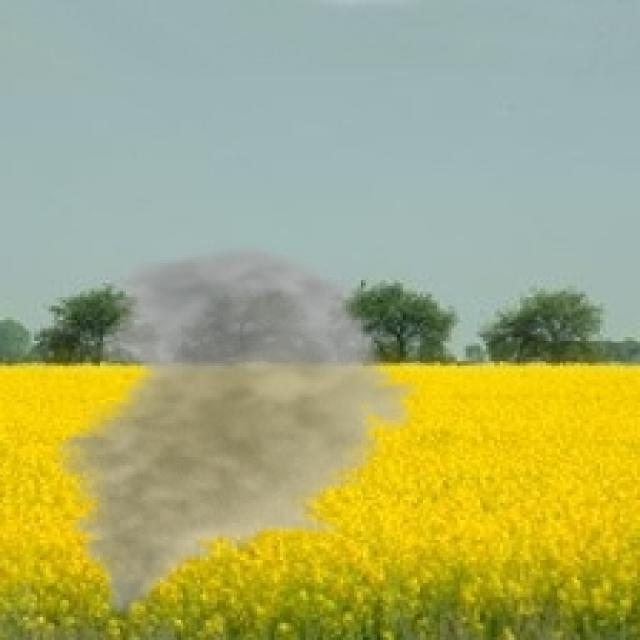Smoke: (42, 240, 428, 620)
